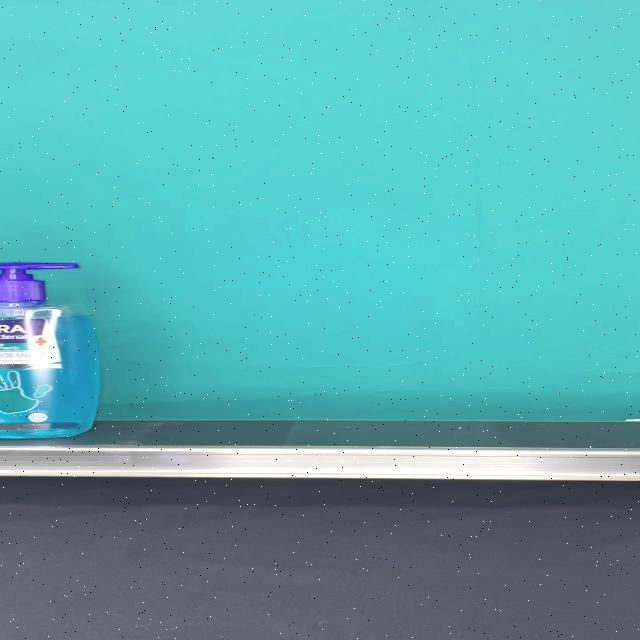Bottle: (0, 263, 101, 439)
Cap: (0, 262, 79, 302)
